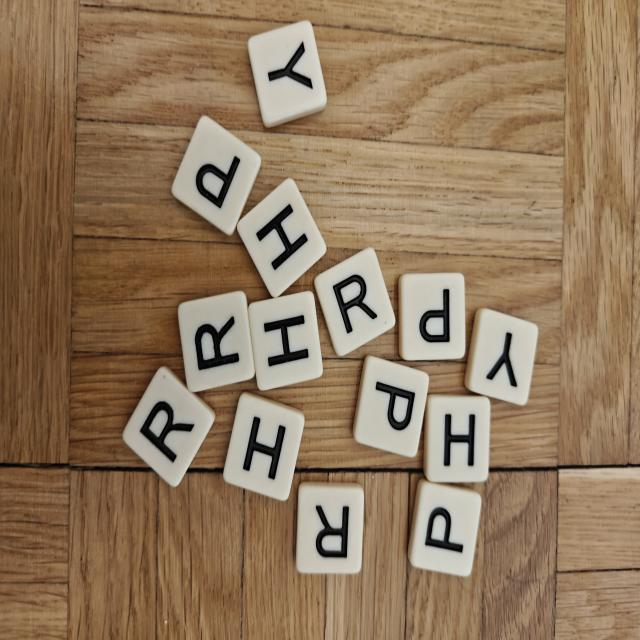h: (237, 178, 326, 297), (223, 392, 304, 500), (248, 291, 323, 391), (423, 394, 490, 483)
p: (172, 116, 261, 235), (353, 356, 429, 457), (408, 479, 481, 576), (399, 273, 466, 360)
r: (123, 366, 215, 487), (314, 248, 395, 356), (178, 291, 255, 392), (296, 482, 364, 573)
y: (248, 20, 327, 127), (465, 308, 538, 405)
